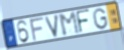6: (16, 20, 31, 44)
F: (29, 16, 45, 43), (75, 8, 91, 34)
G: (92, 7, 109, 30)
M: (57, 10, 82, 37)
V: (43, 13, 60, 39)
